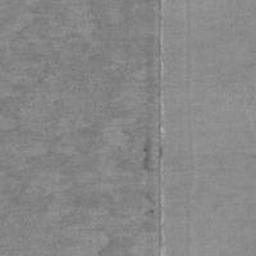Welding line: (157, 0, 166, 256)
